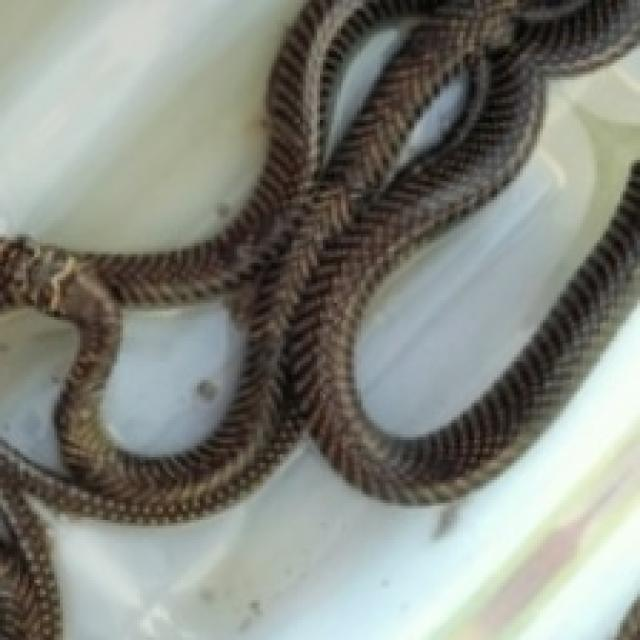paradise tree snake: (0, 0, 637, 637), (0, 0, 254, 234), (426, 111, 586, 274), (97, 294, 249, 457)
